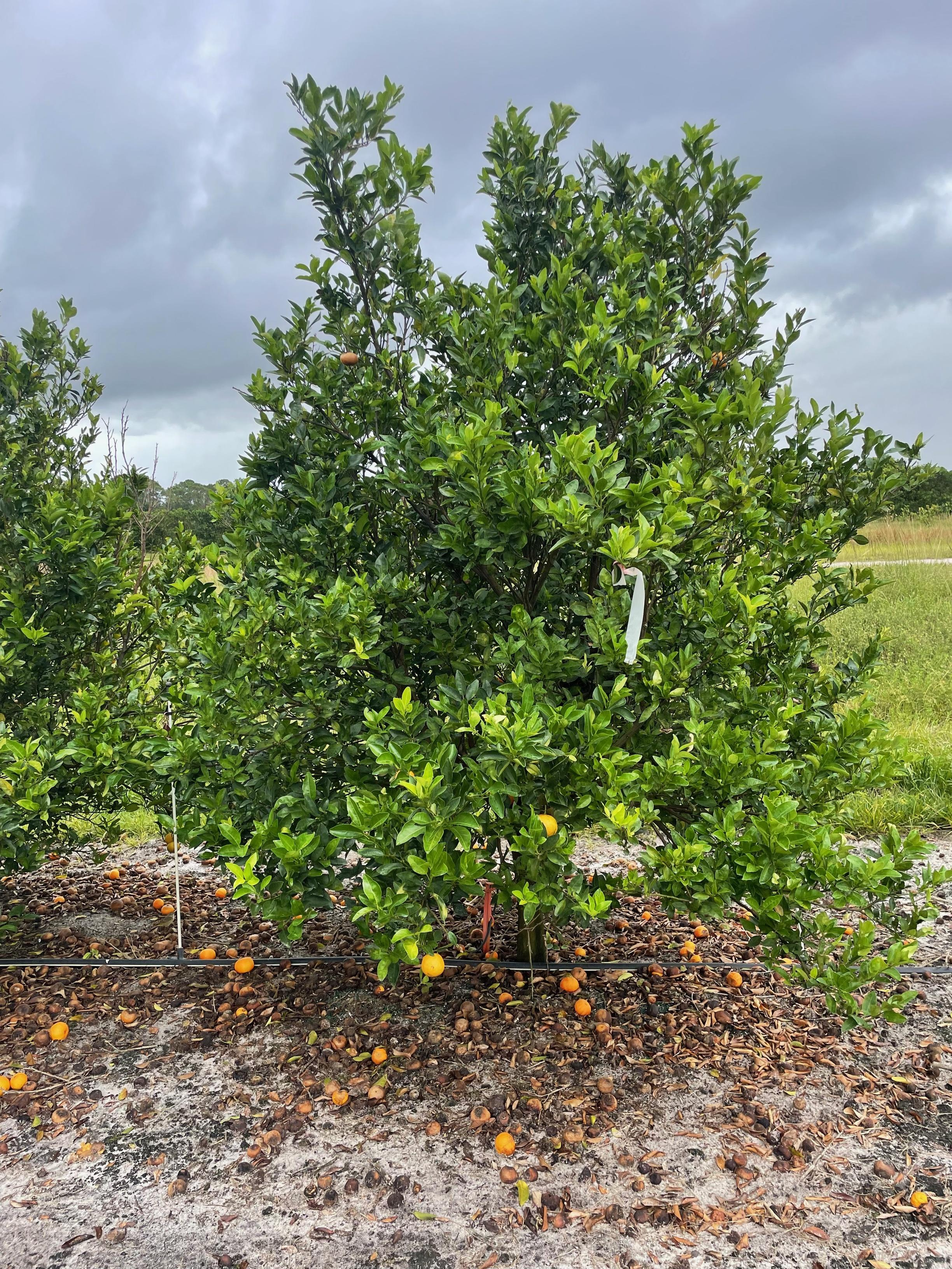fruit_on_ground: (530, 811, 560, 840), (419, 951, 447, 979), (706, 348, 731, 372), (339, 348, 359, 369), (174, 654, 191, 668)
fruit_on_tree: (493, 1131, 516, 1155), (469, 1103, 492, 1125), (47, 1020, 70, 1042), (908, 1189, 931, 1210), (259, 1126, 281, 1147), (556, 974, 578, 995), (597, 1092, 619, 1112), (723, 968, 744, 988), (573, 997, 593, 1017), (366, 1082, 387, 1101), (370, 1044, 389, 1065), (597, 1073, 617, 1092), (9, 1070, 28, 1090), (234, 955, 255, 973), (498, 1164, 518, 1182), (284, 1117, 306, 1133), (330, 1032, 349, 1049), (331, 1089, 350, 1106), (514, 1048, 532, 1065), (33, 1029, 51, 1046), (594, 1006, 612, 1023), (595, 1026, 614, 1042), (295, 1098, 314, 1114), (424, 1119, 441, 1136), (299, 1070, 317, 1086), (458, 1000, 476, 1016), (324, 1081, 340, 1098), (731, 1151, 748, 1167), (679, 940, 696, 956), (646, 961, 663, 977), (497, 989, 514, 1005), (272, 1104, 290, 1119), (525, 1095, 543, 1110), (120, 1009, 138, 1024), (692, 924, 710, 939), (198, 945, 216, 960), (246, 1143, 262, 1159), (571, 964, 588, 979), (220, 979, 238, 993), (454, 1016, 469, 1032), (551, 1214, 567, 1229), (511, 968, 526, 984), (572, 943, 588, 958), (154, 883, 170, 898), (217, 1253, 234, 1267), (257, 918, 272, 933), (510, 1120, 526, 1134), (238, 938, 254, 952), (245, 931, 260, 945), (524, 1166, 539, 1180), (0, 1073, 11, 1092), (621, 893, 638, 905), (469, 1017, 483, 1031), (644, 932, 658, 946), (149, 895, 163, 909), (217, 999, 232, 1012), (666, 964, 681, 977), (613, 917, 628, 930), (214, 885, 229, 898), (224, 945, 239, 958), (161, 902, 176, 915), (900, 935, 916, 947), (103, 868, 117, 881), (109, 897, 123, 910), (56, 925, 71, 937), (107, 867, 122, 879), (66, 884, 79, 897), (121, 893, 134, 906), (842, 925, 856, 937), (178, 901, 191, 913), (640, 909, 653, 921), (52, 893, 66, 904), (617, 933, 629, 945), (47, 850, 59, 860)
